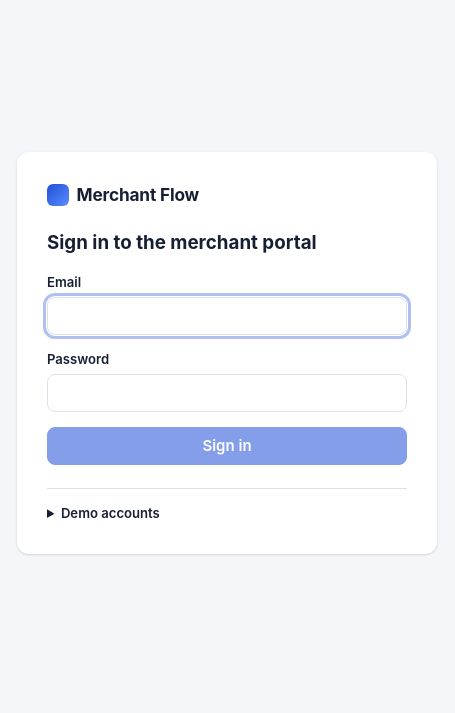
it: sign-in › fills the form from the demo account list
Click the heading "Demo accounts": (110, 513) left=61, top=505, right=160, bottom=521
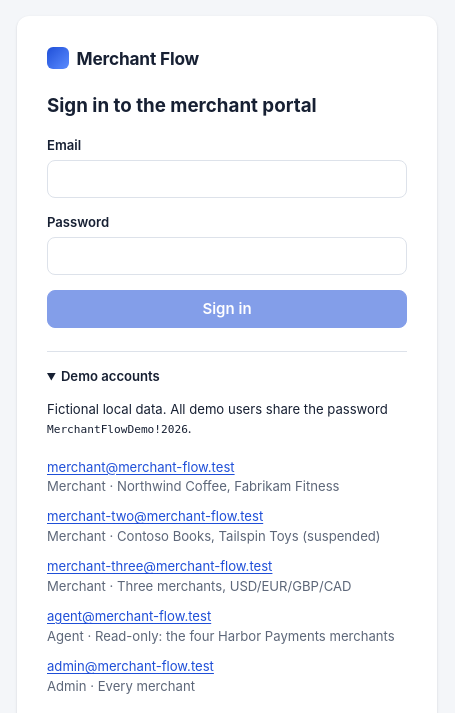
Click the button "agent@merchant-flow.test": (129, 616) left=47, top=607, right=407, bottom=627
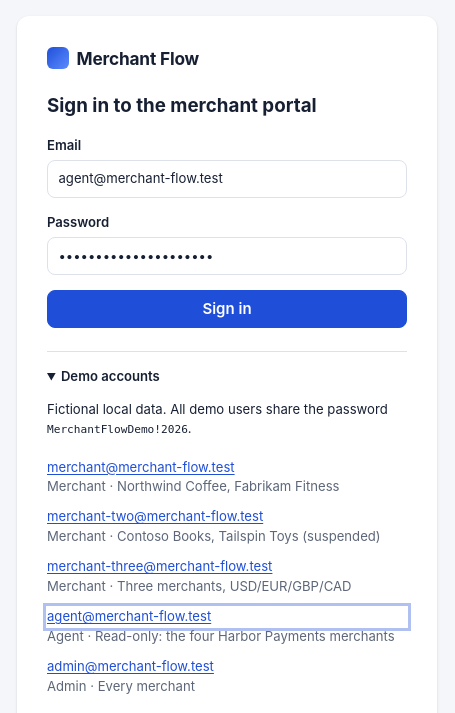
Expected: the field labelled "Email" holds "agent@merchant-flow.test", left=47, top=160, right=407, bottom=198
Expected: the password field labelled "Password" is not empty, left=47, top=237, right=407, bottom=275
